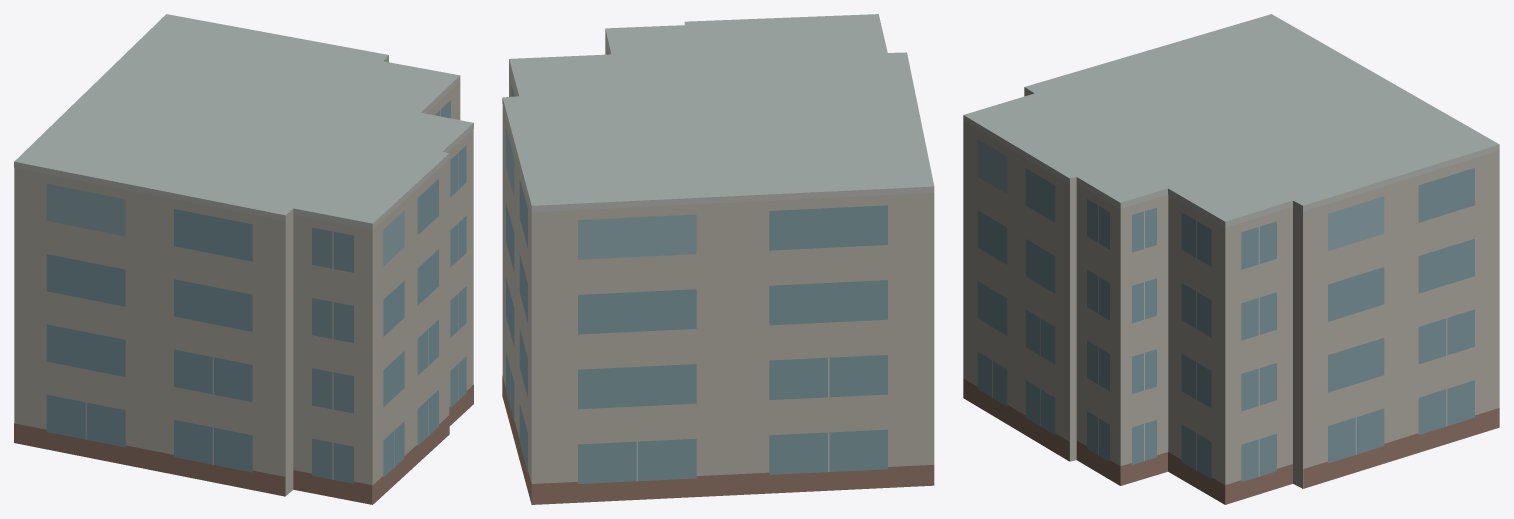
Rendered from survey-upis-32491424.glb.
3 renders of one model, left to right at view 1: azimuth 30°, elevation 25°; view 2: azimuth 150°, elevation 25°; view 3: azimuth 270°, elevation 25°, orthographic. The views are drawn at different scales.
Visible parts, largest first — view 1: survey-upis-32491424.tmp; view 2: survey-upis-32491424.tmp; view 3: survey-upis-32491424.tmp.
Part boxes in pixels (bbox=[...]): survey-upis-32491424.tmp: bbox=[14, 14, 473, 504]; survey-upis-32491424.tmp: bbox=[502, 14, 934, 504]; survey-upis-32491424.tmp: bbox=[963, 14, 1499, 504].
Bounding box in the file's own units: 18.26 × 11.6 × 19.92.
